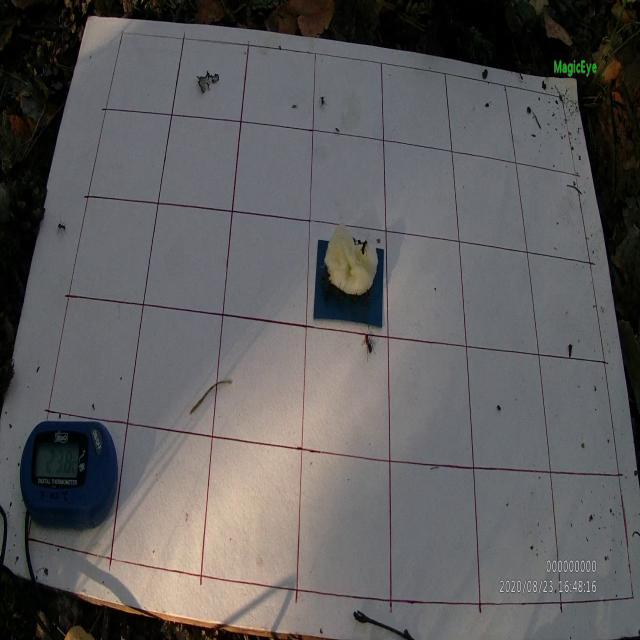Ant: (360, 327, 376, 362), (359, 238, 370, 261), (56, 220, 68, 236), (320, 271, 331, 283)
